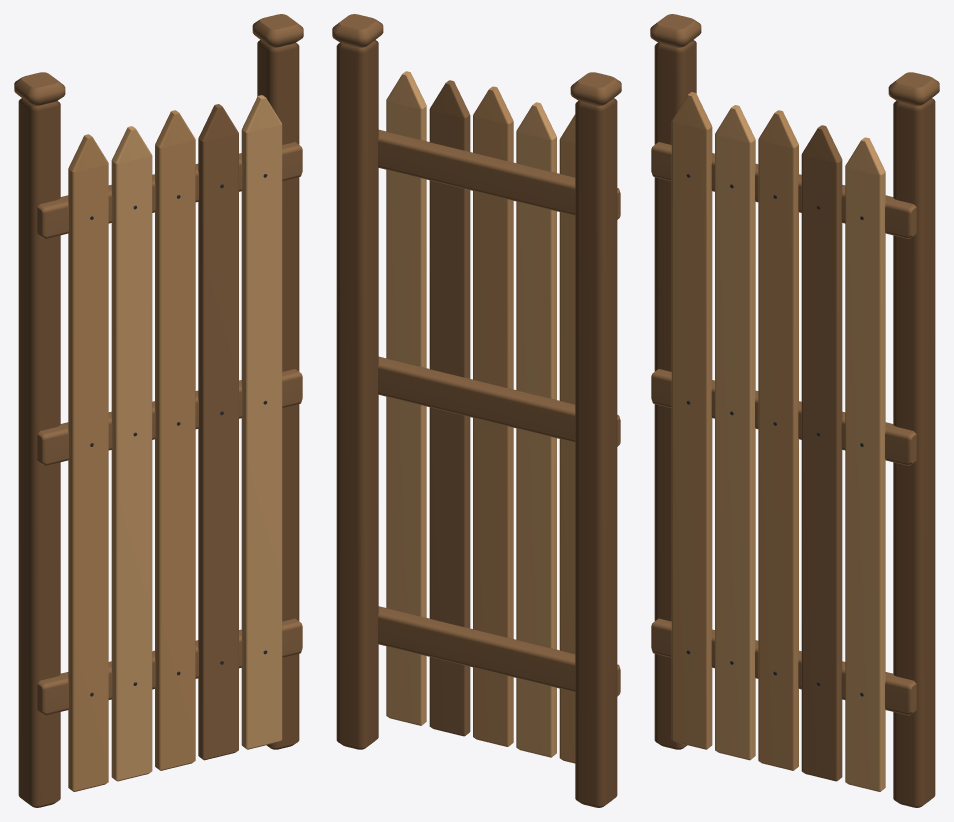
The model's file is cloture_bois.glb.
3 renders of one model, left to right at view 1: azimuth 30°, elevation 25°; view 2: azimuth 150°, elevation 25°; view 3: azimuth 330°, elevation 25°, orthographic.
Visible parts, largest first — view 1: cloture_planche_cl_claire.002, cloture_planche_cl.002, cloture_poteau_bois.002, cloture_planche_cl_sombre.002; view 2: cloture_poteau_bois.002, cloture_planche_cl_sombre.002, cloture_planche_cl_claire.002, cloture_planche_cl.002; view 3: cloture_planche_cl.002, cloture_planche_cl_claire.002, cloture_poteau_bois.002, cloture_planche_cl_sombre.002.
Part boxes in pixels (x1,y1,x2,y2): cloture_planche_cl_claire.002: (111, 95, 282, 781); cloture_planche_cl.002: (68, 110, 195, 791); cloture_poteau_bois.002: (18, 40, 299, 807); cloture_planche_cl_sombre.002: (14, 14, 303, 760); cloture_poteau_bois.002: (336, 40, 617, 807); cloture_planche_cl_sombre.002: (332, 14, 621, 736); cloture_planche_cl_claire.002: (386, 71, 556, 757); cloture_planche_cl.002: (473, 86, 575, 763); cloture_planche_cl.002: (671, 92, 798, 770); cloture_planche_cl_claire.002: (715, 105, 885, 791); cloture_poteau_bois.002: (654, 40, 935, 807); cloture_planche_cl_sombre.002: (650, 14, 939, 781).
Size of the model in its own units: 0.635 by 1.59 by 0.1225.
